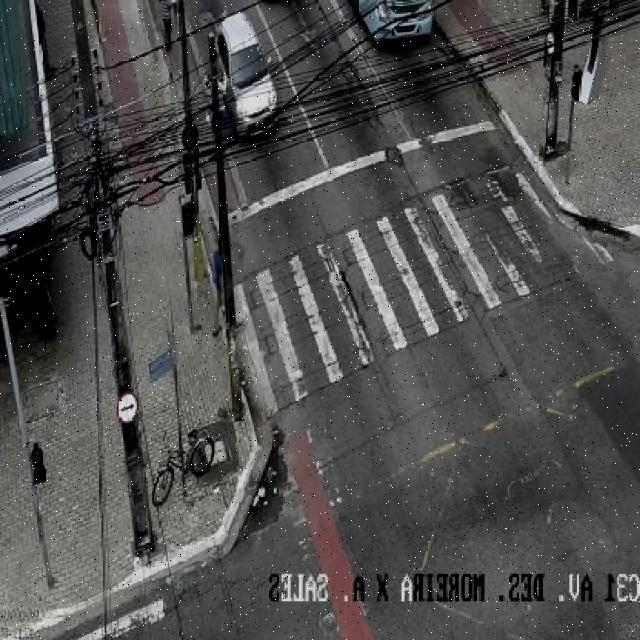Bus: (352, 0, 442, 54)
Car: (197, 11, 287, 152)
